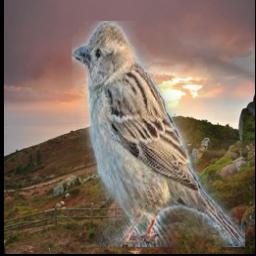Sparrow: (73, 21, 246, 247)
